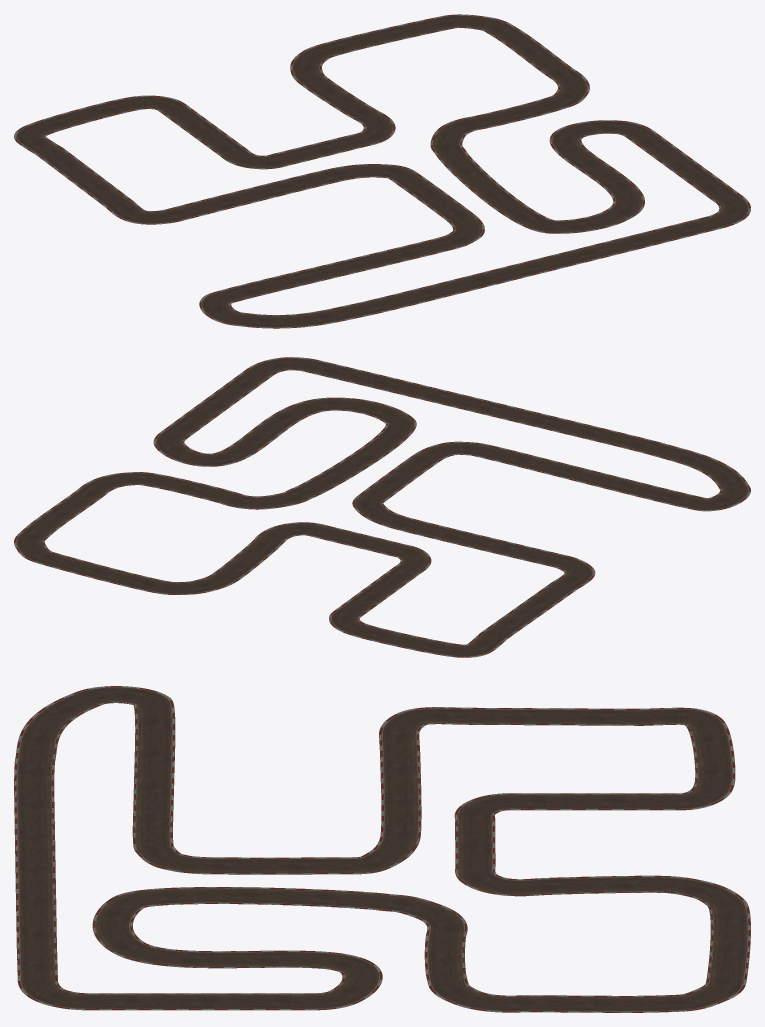
The model's file is Road 5.fbx.
3 views of the same model, one above another, from view 1: azimuth 30°, elevation 25°; view 2: azimuth 150°, elevation 25°; view 3: azimuth 270°, elevation 25° (orthographic). The views are drawn at different scales.
Parts seen in each view (by area): view 1: Road_5; view 2: Road_5; view 3: Road_5.
Part boxes in pixels (left/top/right/bottom): Road_5: left=14, top=14, right=750, bottom=328; Road_5: left=14, top=357, right=750, bottom=657; Road_5: left=14, top=686, right=750, bottom=1012.
Bounding box in the file's own units: 76879 × 5 × 73274.
1 material, 1 textured.
